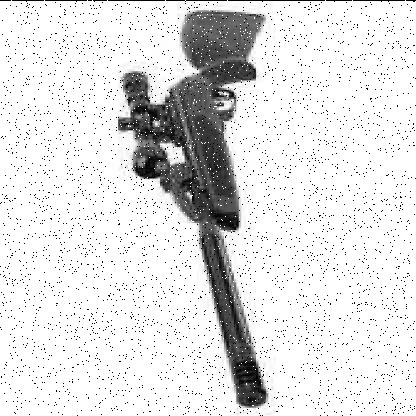rifle: (108, 5, 310, 412)
